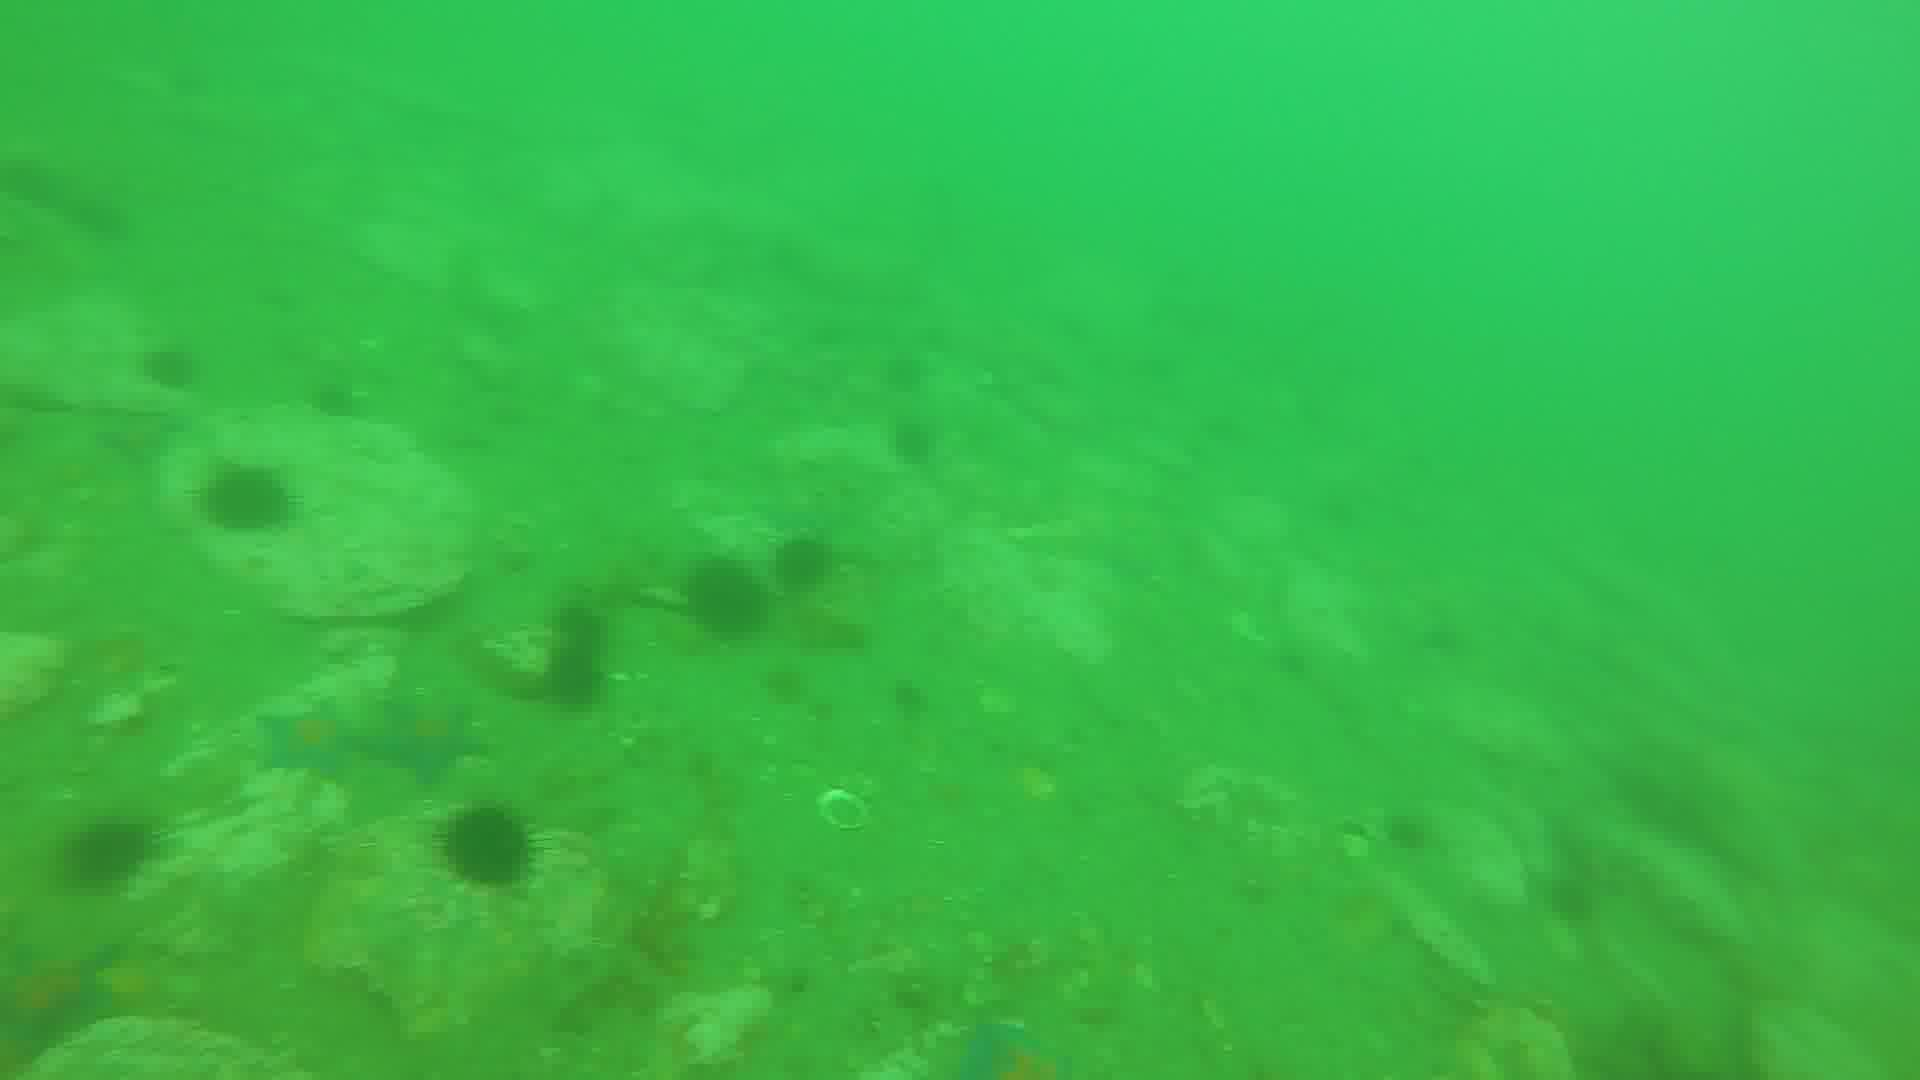echinus: (439, 806, 535, 886), (206, 473, 299, 535), (69, 820, 157, 881), (694, 559, 756, 634), (1538, 869, 1593, 924), (775, 542, 833, 589), (543, 654, 603, 698), (897, 413, 939, 469), (554, 603, 607, 647), (148, 347, 194, 393), (887, 353, 931, 397), (1391, 814, 1437, 847)
starfish: (1, 927, 144, 1063), (365, 694, 484, 782), (256, 704, 356, 785), (967, 1007, 1065, 1080)
